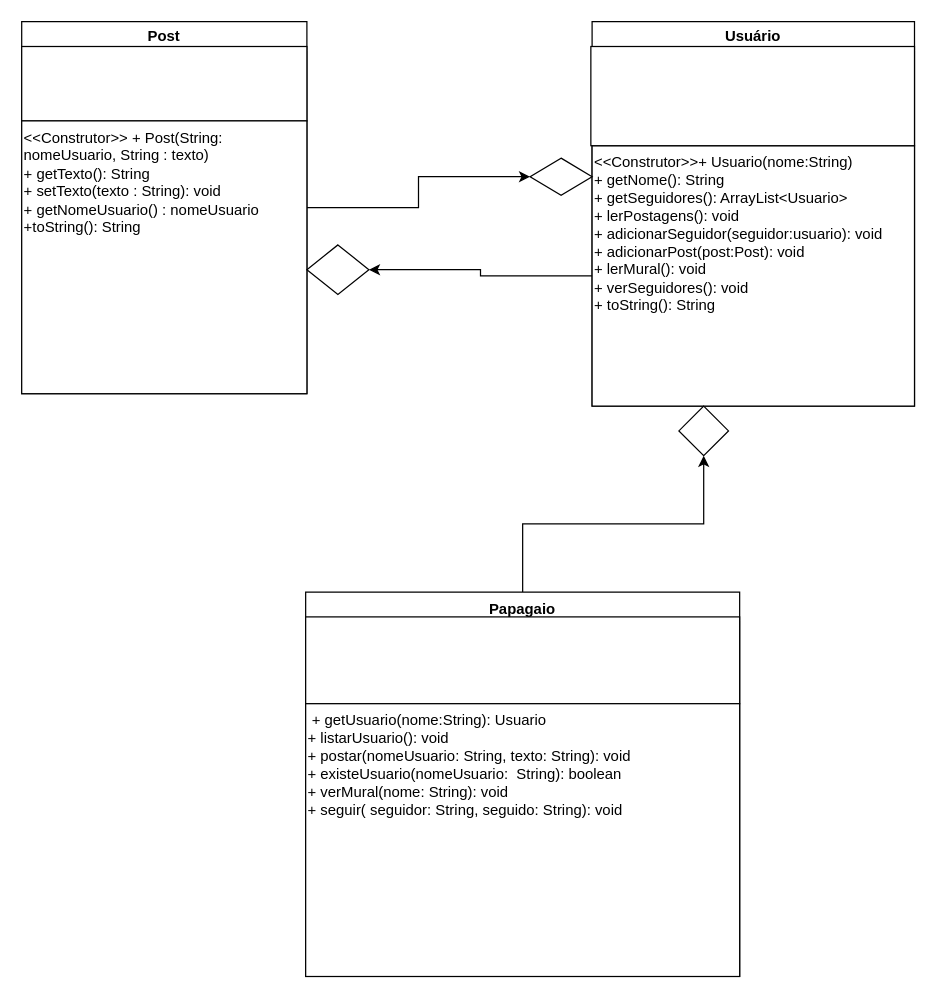
This 936x998 diagram has some shape labels left out. Here are the shapes that lost their labels. From the top down, the centre of each, then its label:
At point (163, 83): "-texto : String -autor : nomeUsuario -data : LocalDateTime".
At point (752, 95): "- postagens : ArrayList<Post> - seguindo : ArrayList<Usuario> - nome: String".
At point (522, 660): "- userList: ArrayList<Usuario>".
